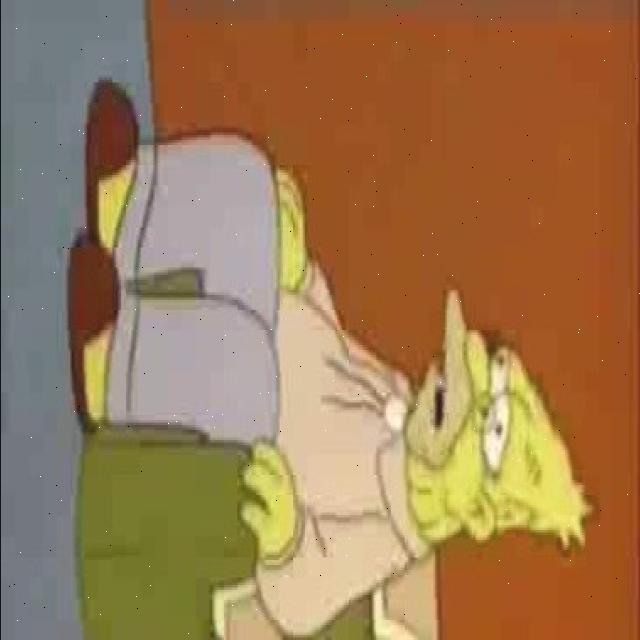Abraham Grampa Simpson: (397, 286, 589, 558)
